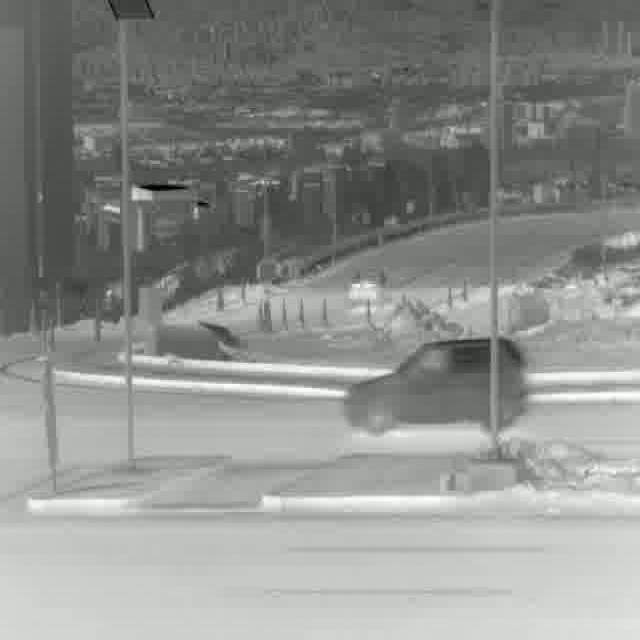Car: (346, 337, 524, 434)
